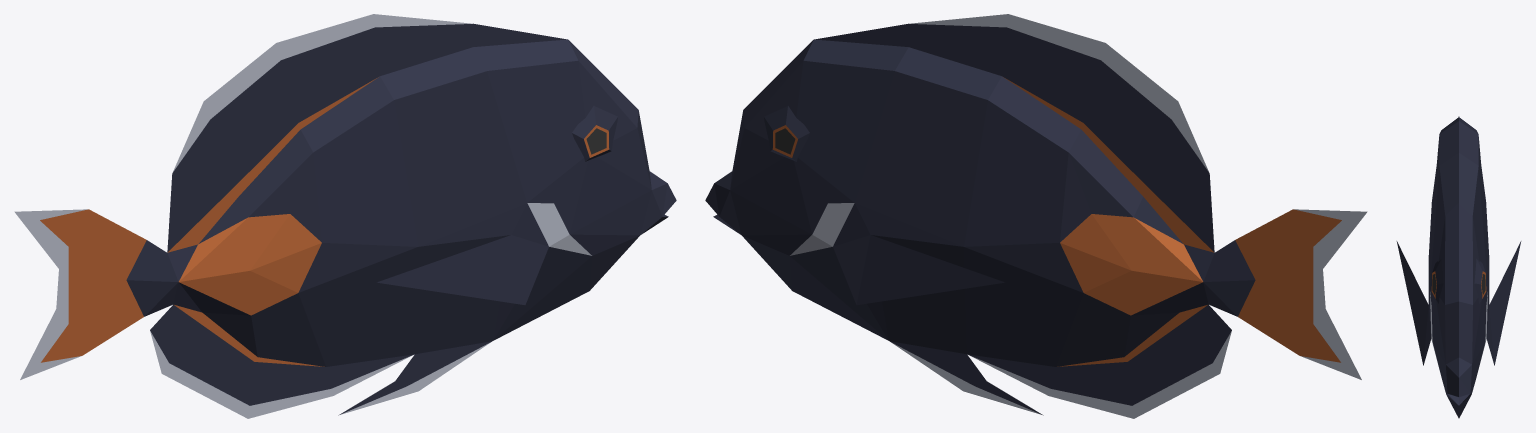
Rendered from Achilles Tang.fbx.
The picture shows the model from 3 angles, left to right: view 1: azimuth 30°, elevation 25°; view 2: azimuth 150°, elevation 25°; view 3: azimuth 270°, elevation 25°; orthographic projection. The views are drawn at different scales.
Parts seen in each view (by area): view 1: Achilles Tang; view 2: Achilles Tang; view 3: Achilles Tang.
Boxes of the visible parts, x1,y1,x2,y2 form: Achilles Tang: (14, 14, 676, 418); Achilles Tang: (705, 14, 1367, 418); Achilles Tang: (1396, 116, 1521, 418).
Bounding box in the file's own units: 1.29 × 0.7286 × 0.2597.
